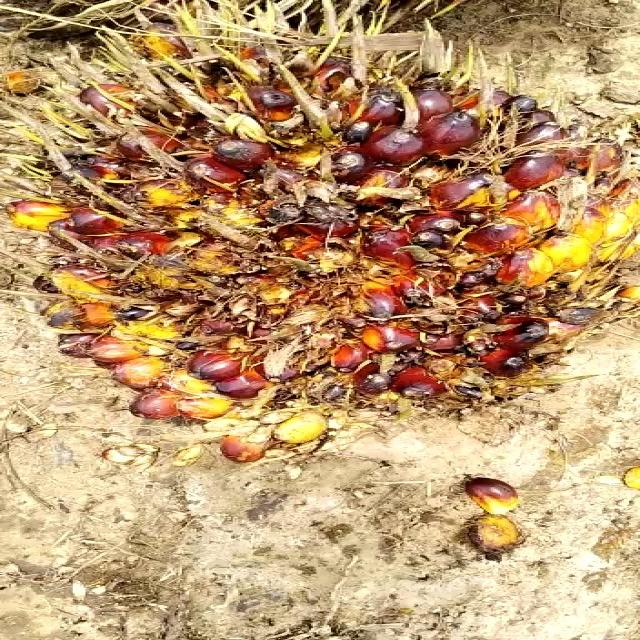palm oil: (1, 7, 640, 431)
